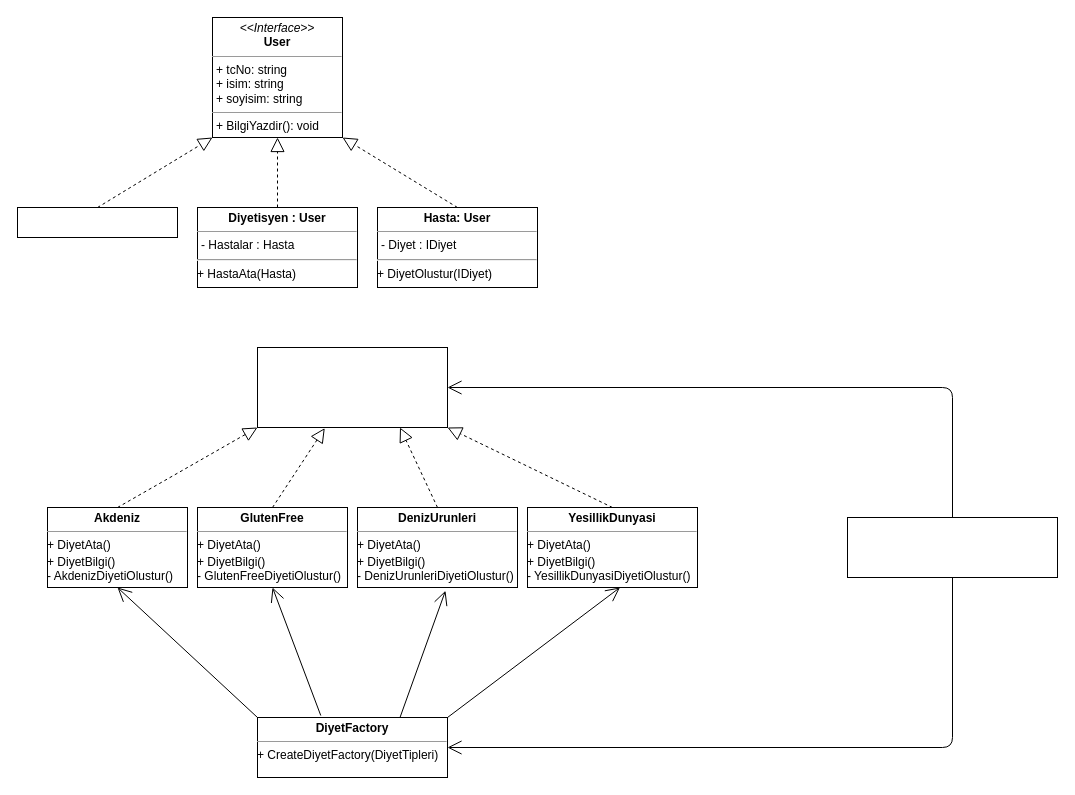
The diagram is 1075 pixels wide and 795 high, and some of its shapes have lost their labels. The shapes that lost their labels are listed below. From the top down, each one's centre as x and y in pixels, then its label:
At (97,222): "Admin: User".
At (352,387): "<<Interface>> IDiyet + DiyetAta: bool".
At (952,547): "Client + DiyetAtamaIslemi(Hasta,DiyetTipleri)".
